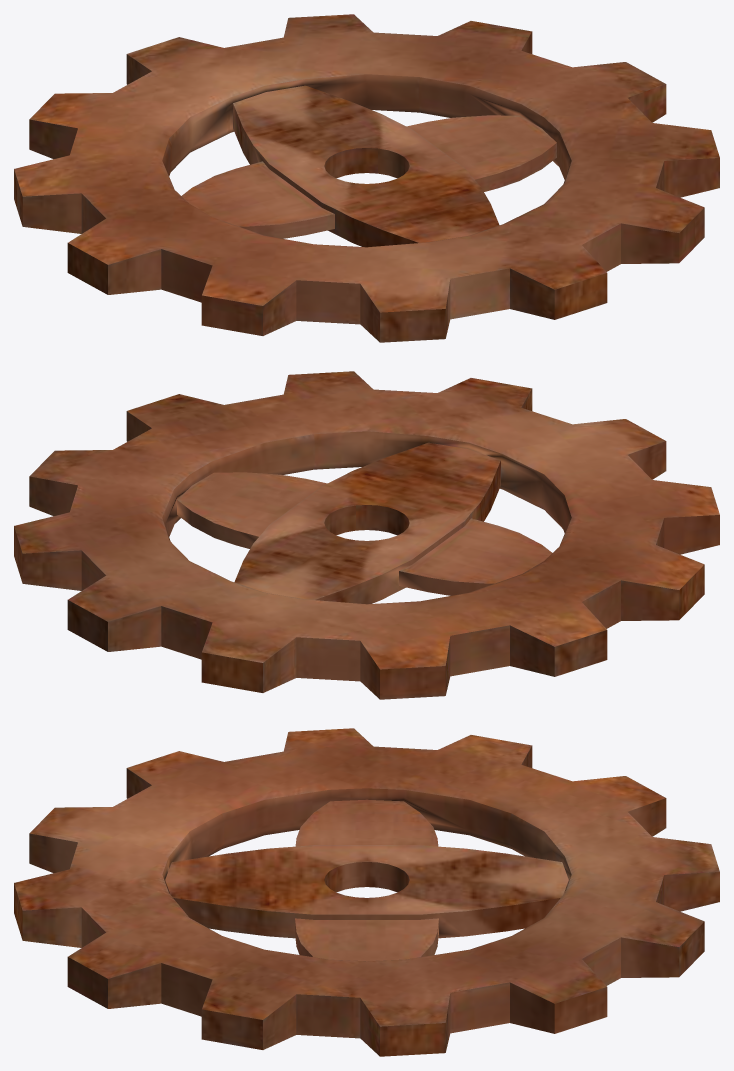
Rendered from steampunk_gear_13.glb.
3 renders of one model, top to bottom at view 1: azimuth 30°, elevation 25°; view 2: azimuth 150°, elevation 25°; view 3: azimuth 270°, elevation 25°, orthographic.
Parts seen in each view (by area): view 1: steampunk_gear_13; view 2: steampunk_gear_13; view 3: steampunk_gear_13.
Boxes of the visible parts, x1,y1,x2,y2 form: steampunk_gear_13: (14,14,719,342); steampunk_gear_13: (14,371,719,699); steampunk_gear_13: (14,728,719,1056).
Size of what is drawn, in the model's own units: 0.1563 by 0.00993 by 0.1563.
Materials: 1 (1 with a texture image).
